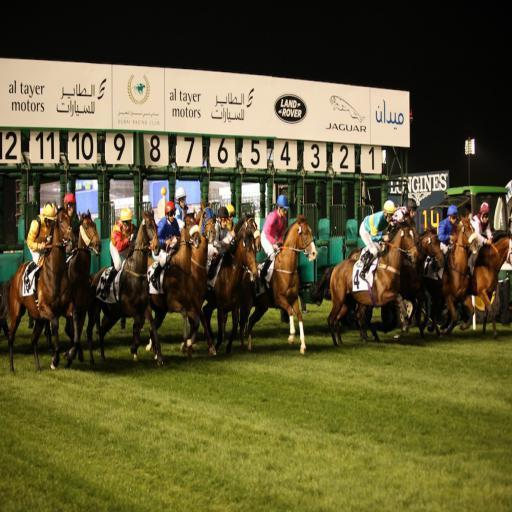horse: (1, 198, 320, 378), (312, 210, 512, 348)
